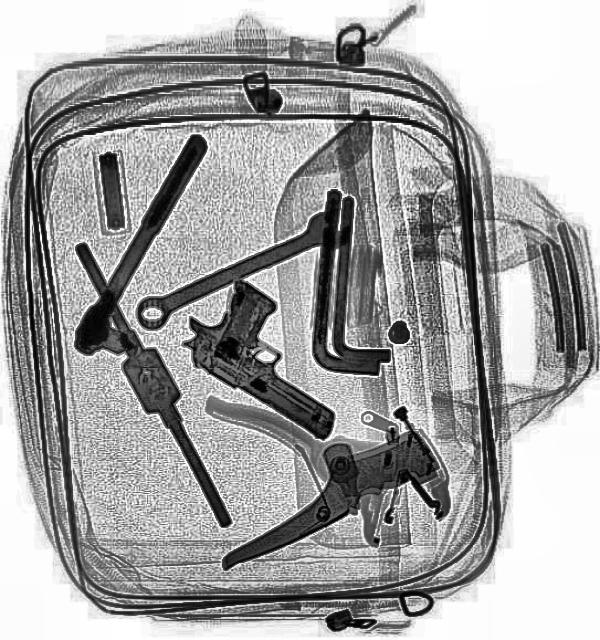Gun: (168, 266, 374, 440)
Wrench: (127, 204, 349, 336)
